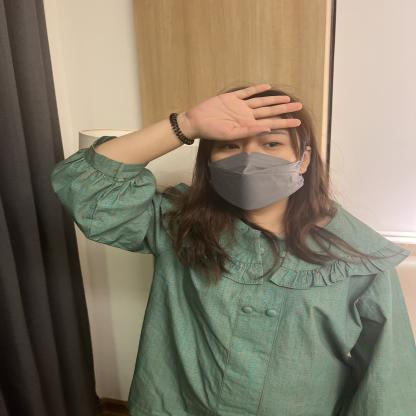Sick: (81, 81, 416, 191)
